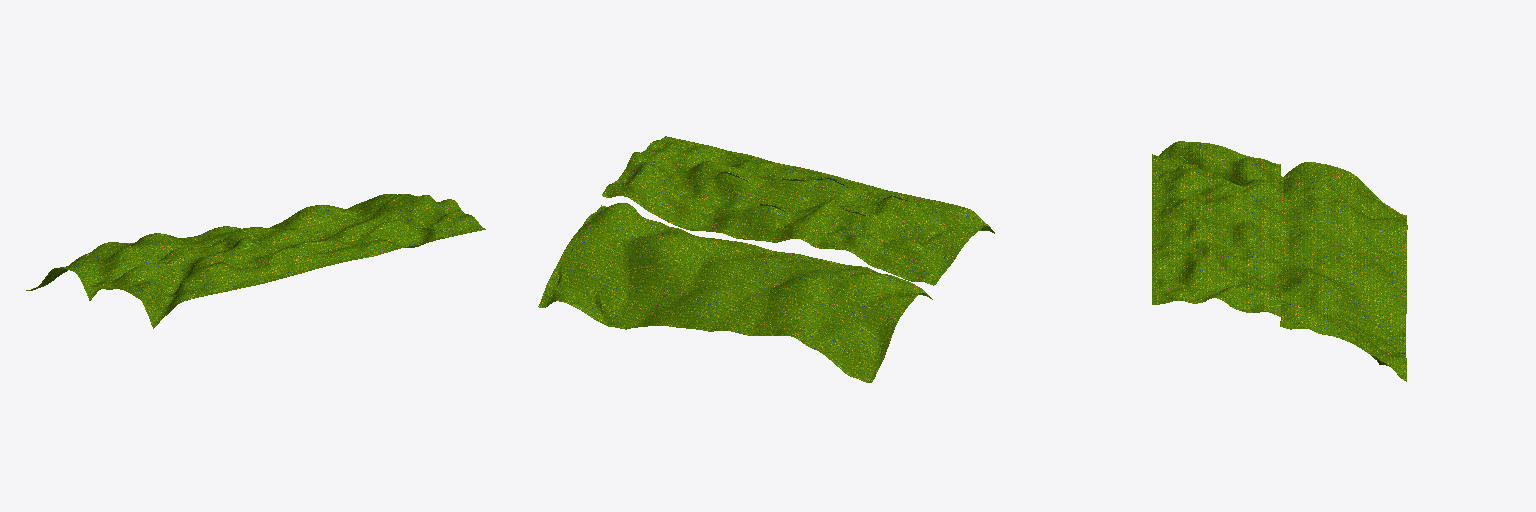
The picture shows the model from 3 angles: view 1: azimuth 30°, elevation 25°; view 2: azimuth 150°, elevation 25°; view 3: azimuth 270°, elevation 25°; orthographic projection.
Visible parts, largest first — view 1: Landscape_Front_Grid.001, Landscape_Back_Grid.003; view 2: Landscape_Back_Grid.003, Landscape_Front_Grid.001; view 3: Landscape_Back_Grid.003, Landscape_Front_Grid.001.
Part boxes in pixels (x1,y1,x2,y2): Landscape_Front_Grid.001: (90,194,485,328); Landscape_Back_Grid.003: (26,194,396,300); Landscape_Back_Grid.003: (538,203,932,382); Landscape_Front_Grid.001: (602,136,994,285); Landscape_Back_Grid.003: (1280,162,1407,381); Landscape_Front_Grid.001: (1152,141,1280,316).
Bounding box in the file's own units: 1200 × 333 × 797.
Materials: 2 (2 with a texture image).